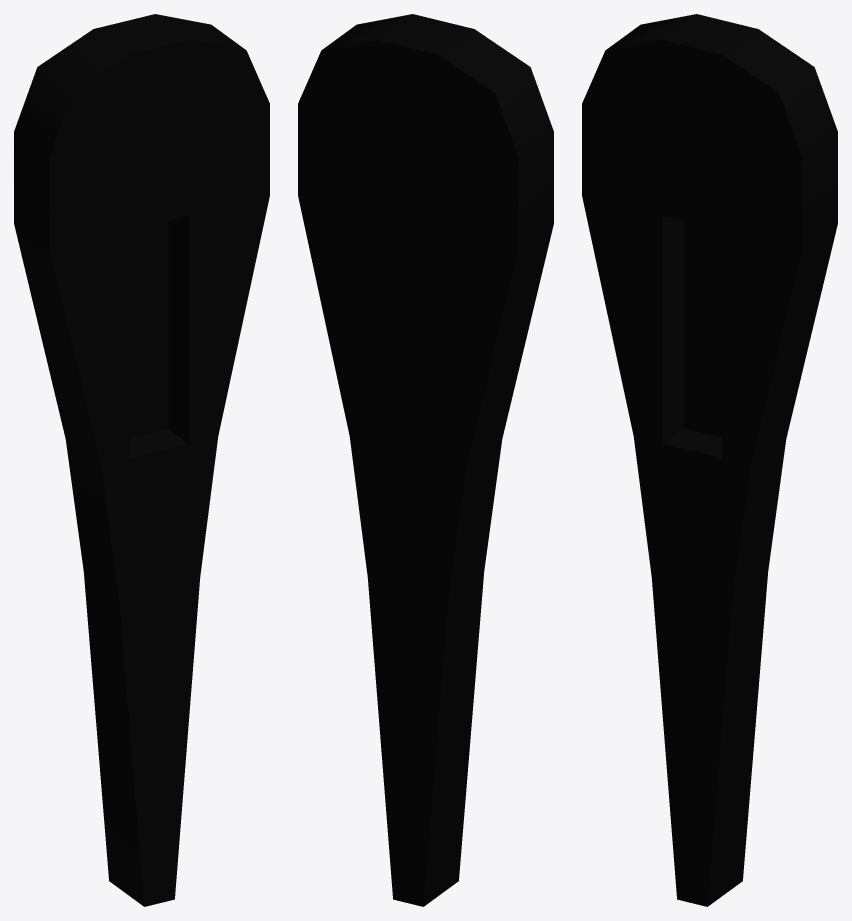
File: SM_Wardrobe_Lock.fbx
3 views of the same model, side by side, from view 1: azimuth 30°, elevation 25°; view 2: azimuth 150°, elevation 25°; view 3: azimuth 330°, elevation 25° (orthographic).
Parts seen in each view (by area): view 1: SM_Wardrobe_Lock; view 2: SM_Wardrobe_Lock; view 3: SM_Wardrobe_Lock.
Boxes of the visible parts, <box> form: SM_Wardrobe_Lock: <box>14,14,269,906</box>; SM_Wardrobe_Lock: <box>298,14,553,906</box>; SM_Wardrobe_Lock: <box>582,14,837,906</box>.
Size of the model in its own units: 5.21 by 19.33 by 1.45.
